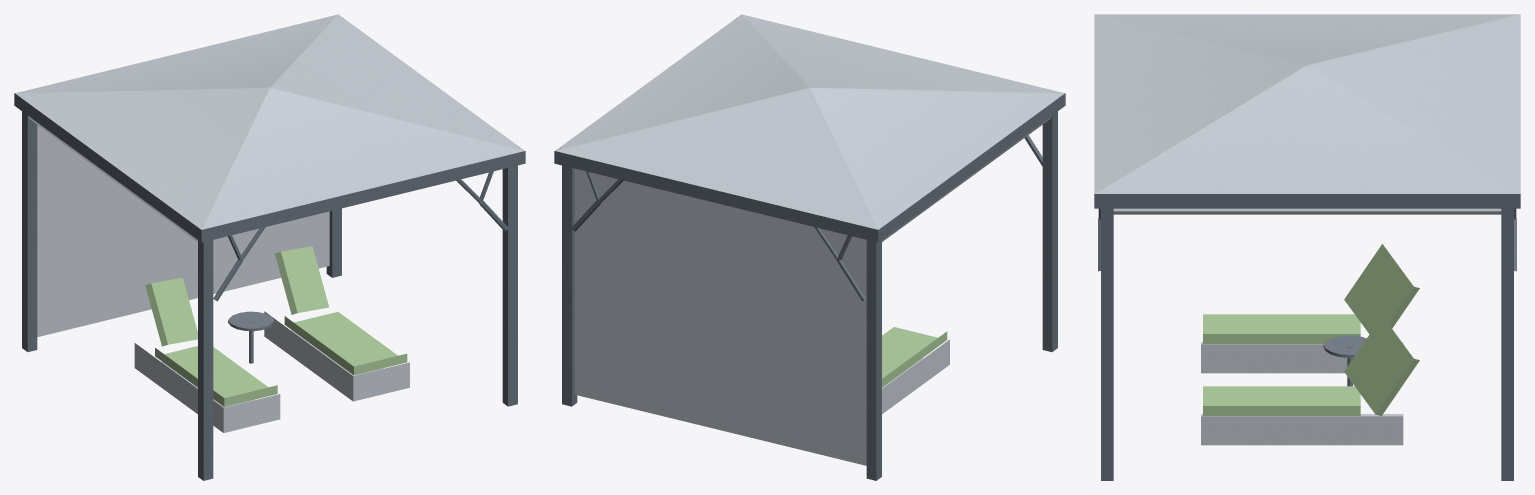
3 renders of one model, left to right at view 1: azimuth 30°, elevation 25°; view 2: azimuth 150°, elevation 25°; view 3: azimuth 270°, elevation 25°, orthographic. The views are drawn at different scales.
Parts seen in each view (by area): view 1: Fabric_Roof, Fabric_Back_Drop, Posts, Cushions, Lounger_Frame, Eave_Beams, Branch_Forks, Side_Table; view 2: Fabric_Back_Drop, Fabric_Roof, Posts, Eave_Beams, Cushions, Lounger_Frame, Branch_Forks; view 3: Fabric_Roof, Cushions, Lounger_Frame, Posts, Eave_Beams, Fabric_Rolls, Side_Table.
Part boxes in pixels (box(x1,y1,x2,y2)): Fabric_Roof: box(15, 14, 524, 229); Fabric_Back_Drop: box(37, 125, 329, 336); Posts: box(22, 111, 517, 480); Cushions: box(145, 246, 407, 406); Lounger_Frame: box(134, 311, 409, 432); Eave_Beams: box(14, 93, 525, 242); Branch_Forks: box(213, 171, 507, 301); Side_Table: box(228, 311, 274, 363); Fabric_Back_Drop: box(574, 168, 866, 465); Fabric_Roof: box(555, 14, 1064, 229); Posts: box(562, 111, 1057, 480); Eave_Beams: box(554, 93, 1065, 242); Cushions: box(882, 327, 947, 387); Lounger_Frame: box(882, 339, 949, 413); Branch_Forks: box(572, 135, 1042, 301); Fabric_Roof: box(1094, 14, 1520, 193); Cushions: box(1203, 244, 1419, 415); Lounger_Frame: box(1201, 342, 1403, 445); Posts: box(1101, 208, 1513, 480); Eave_Beams: box(1094, 194, 1520, 208); Fabric_Rolls: box(1113, 208, 1501, 214); Side_Table: box(1323, 335, 1366, 386).
Size of what is drawn, in the model's own units: 4 by 3.4 by 4.
4 materials, 3 textured.
